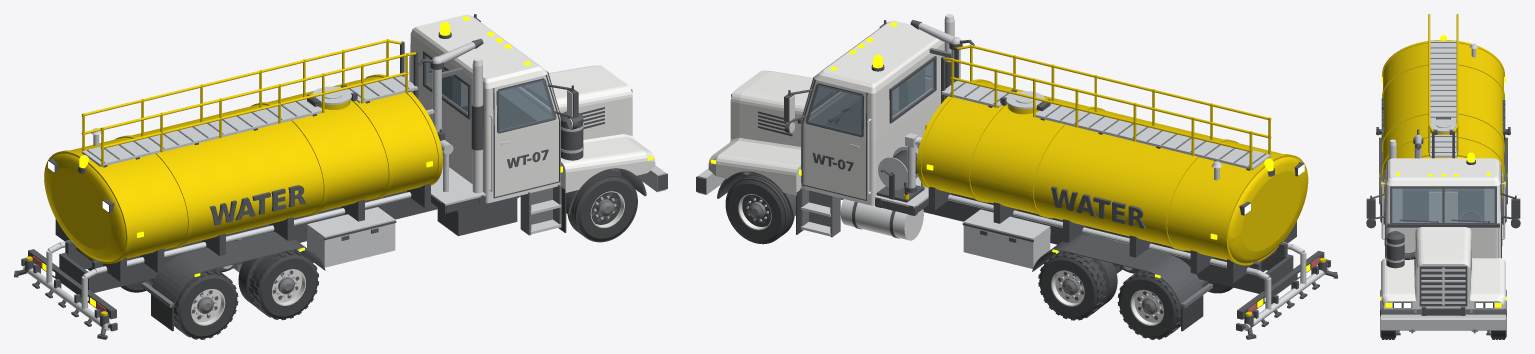
Rendered from Water_Truck_4000gal.glb.
3 views of the same model, side by side, from view 1: azimuth 30°, elevation 25°; view 2: azimuth 150°, elevation 25°; view 3: azimuth 270°, elevation 25° (orthographic). The views are drawn at different scales.
Parts seen in each view (by area): view 1: tank, cab, tyres, hood, catwalk, handrails, rear_mudguard, tool_box, tank_ribs, frame_rails, tank_cradles, feed_pipe (+25 smaller); view 2: tank, cab, tyres, hood, handrails, catwalk, rear_mudguard, tool_box, tank_ribs, frame_rails, tank_cradles, door_glass (+22 smaller); view 3: tank, cab, hood, windscreen, catwalk, bumper, seats, grille, tank_ribs, grille_bars, handrails, catwalk_tread (+19 smaller).
Boxes of the visible parts, x1,y1,x2,y2 form: tank: (45,76,438,261); cab: (409,14,560,203); tyres: (120,170,637,339); hood: (548,65,655,192); catwalk: (82,76,417,166); handrails: (81,39,408,166); rear_mudguard: (151,232,325,307); tool_box: (307,207,395,267); tank_ribs: (44,74,442,263); frame_rails: (59,198,437,292); tank_cradles: (55,184,430,281); feed_pipe: (46,152,448,309); tank: (921,81,1307,263); cab: (801,20,944,205); tyres: (725,173,1232,339); hood: (708,70,812,195); handrails: (950,44,1271,169); catwalk: (941,81,1270,170); rear_mudguard: (1032,234,1202,307); tool_box: (963,209,1050,268); tank_ribs: (916,79,1308,265); frame_rails: (923,200,1293,293); tank_cradles: (928,186,1296,283); door_glass: (805,64,930,136); tank: (1383,43,1503,192); cab: (1386,158,1500,258); hood: (1381,227,1505,309); windscreen: (1392,188,1494,222); catwalk: (1430,41,1456,157); bumper: (1381,314,1505,330); seats: (1403,189,1483,221); grille: (1419,266,1467,306); tank_ribs: (1382,40,1504,198); grille_bars: (1421,267,1465,305); handrails: (1428,14,1458,153); catwalk_tread: (1430,42,1456,152).
Size of the model in its own units: 9.73 by 3.39 by 3.05.
